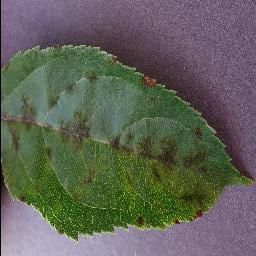apple healthy: (0, 42, 254, 241)
